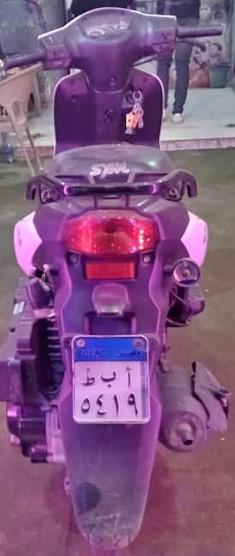License Plate: (73, 333, 150, 424)
